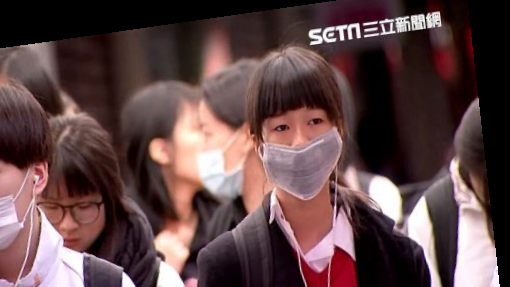mask_weared_incorrect: (238, 48, 356, 206)
